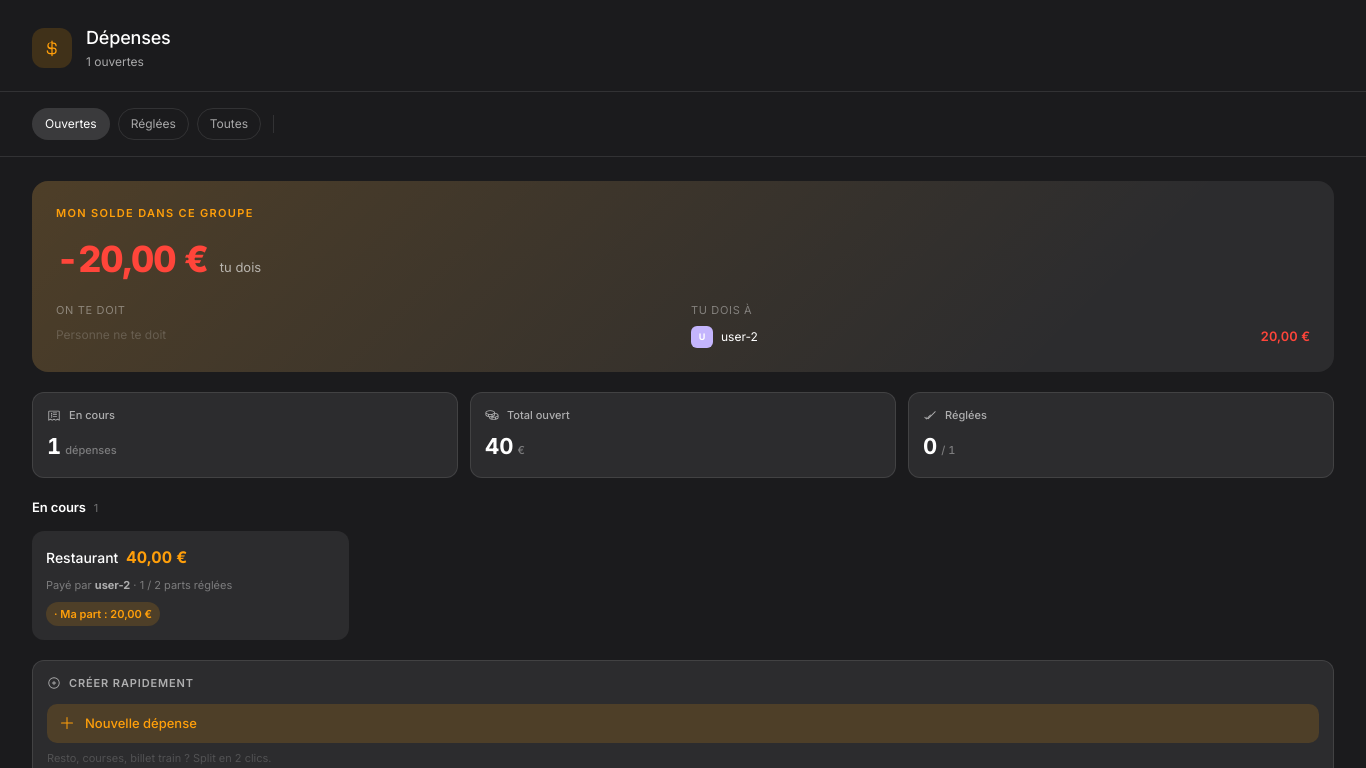
Scenario: repli du rail sous le point de rupture (MAN-246 phase 5) › ExpensesDashboard : l’action de création reste atteignable et ouvre la modale
This screenshot has width=1366, height=768.
Click the button "Nouvelle dépense": x=141, y=722 x1=47 y1=704 x2=1319 y2=743
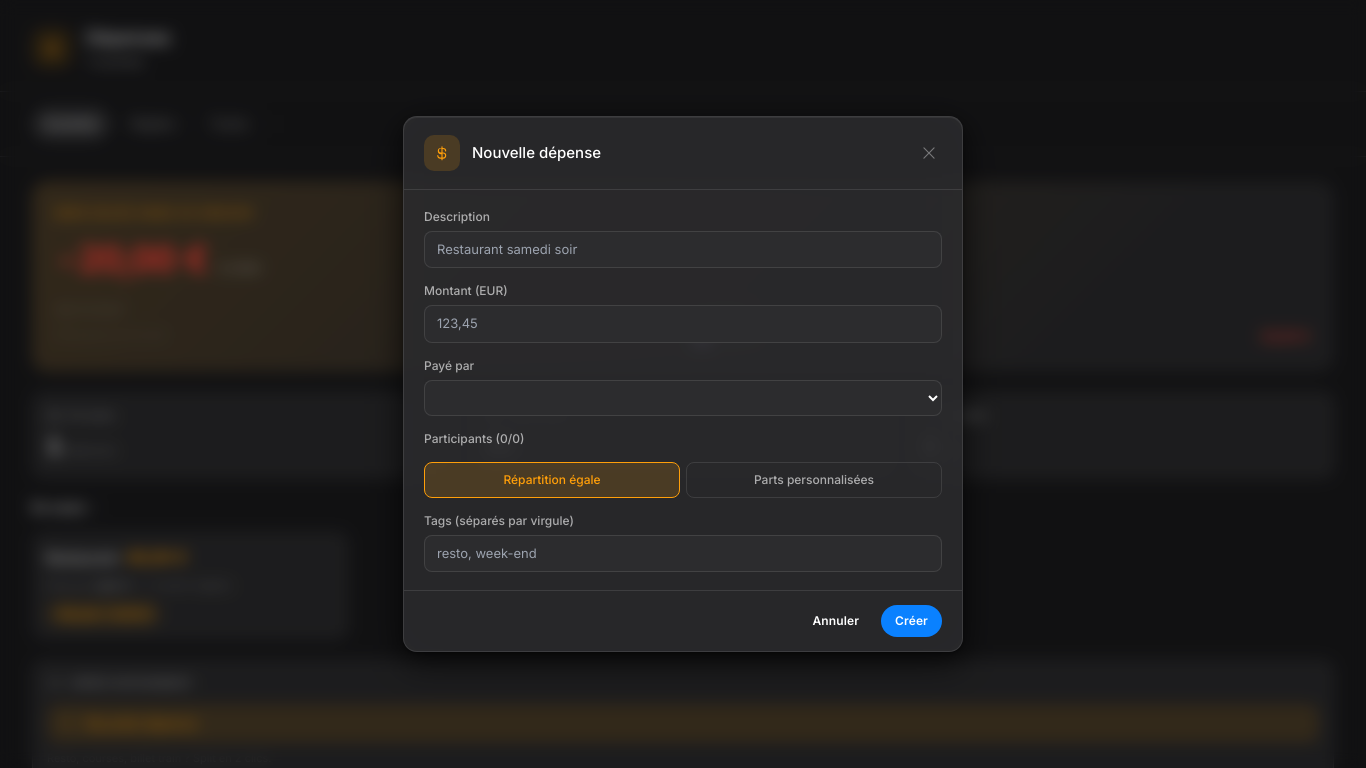
Result: the dialog is shown
